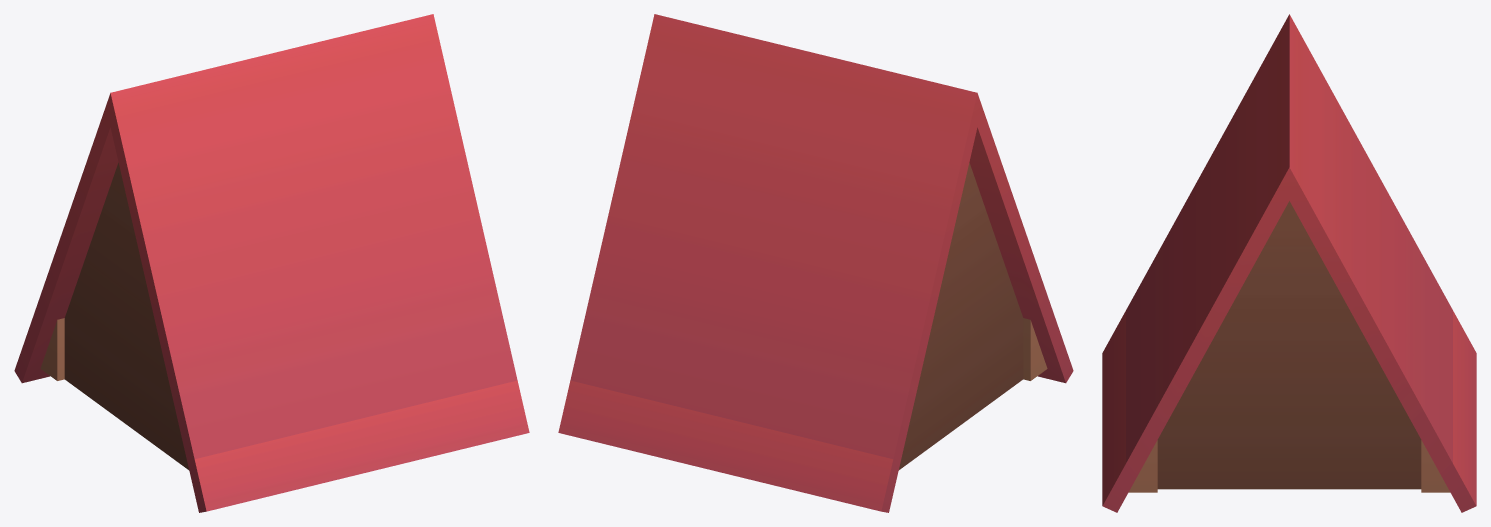
Rendered from ot-roof-high-gable.glb.
3 renders of one model, left to right at view 1: azimuth 30°, elevation 25°; view 2: azimuth 150°, elevation 25°; view 3: azimuth 270°, elevation 25°, orthographic. The views are drawn at different scales.
Visible parts, largest first — view 1: roof-high-gable; view 2: roof-high-gable; view 3: roof-high-gable.
Part boxes in pixels (left/top/right/bottom): roof-high-gable: left=14, top=14, right=529, bottom=512; roof-high-gable: left=558, top=14, right=1073, bottom=512; roof-high-gable: left=1102, top=14, right=1476, bottom=512.
Size of the model in its own units: 1.1 by 1.16 by 1.13.
Materials: 1 (1 with a texture image).
